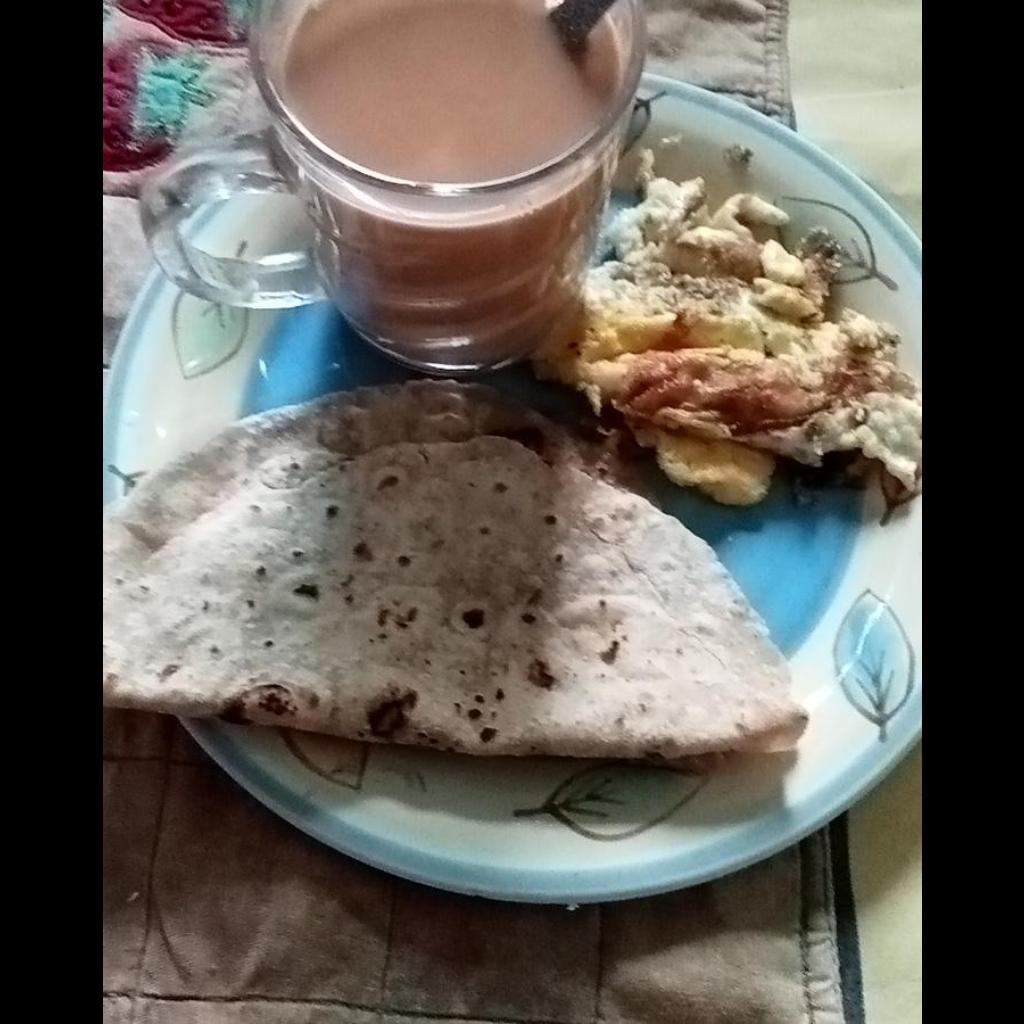cha: (289, 0, 609, 184)
egg-poached: (531, 147, 920, 524)
ruti: (102, 383, 804, 759)
